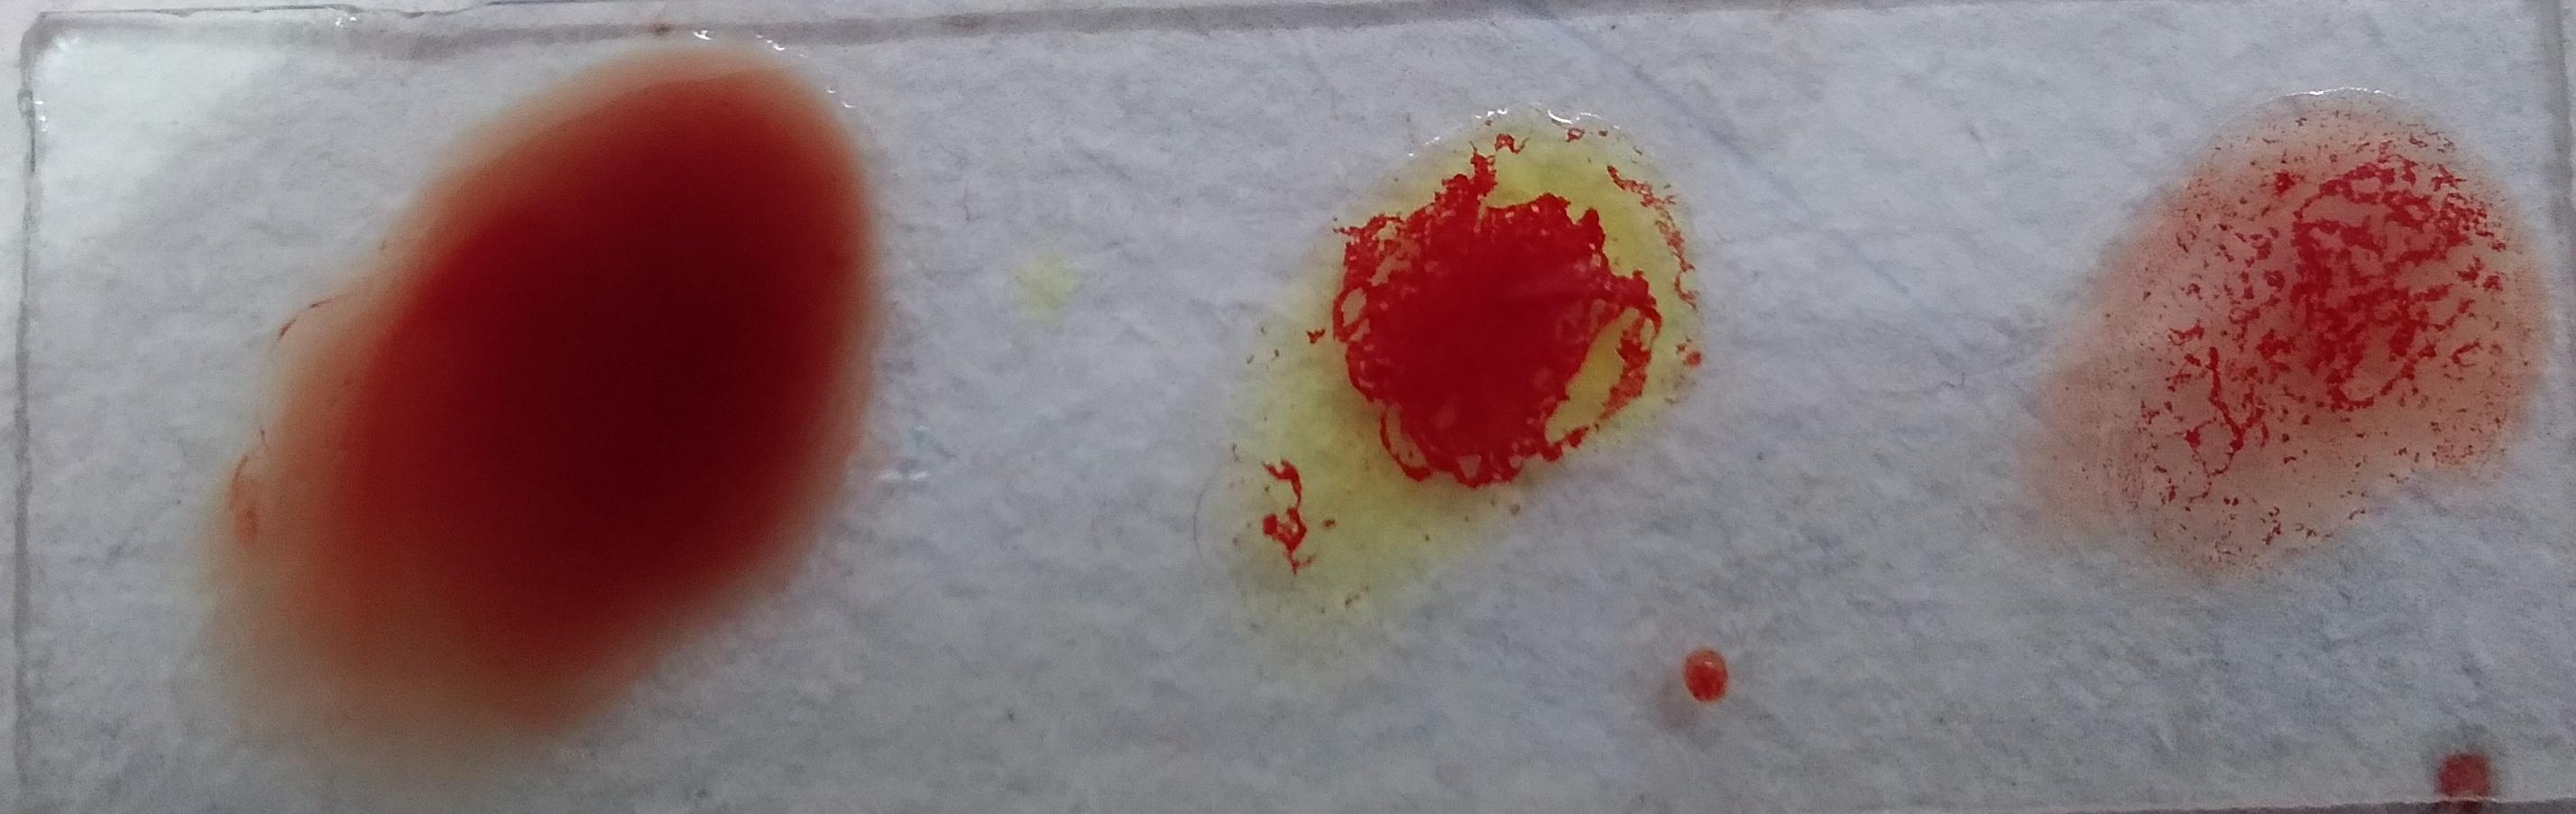B: (877, 169, 1342, 715)
D: (38, 235, 496, 720)
